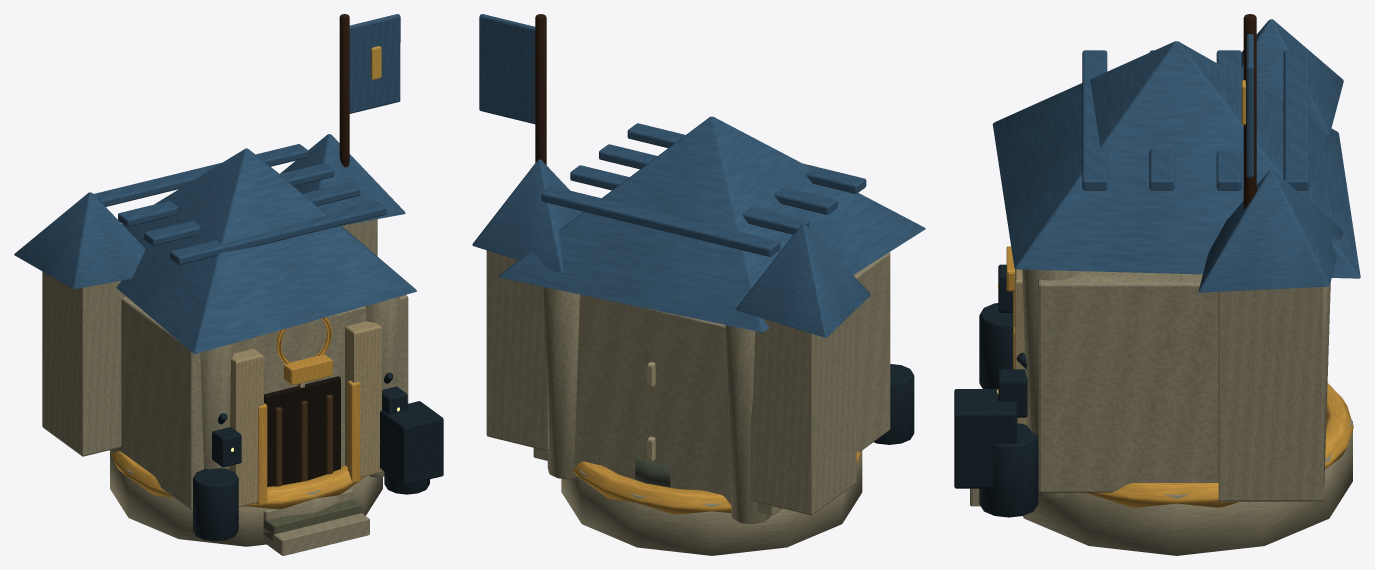
File: tower-barracks-2-base.glb
3 views of the same model, side by side, from view 1: azimuth 30°, elevation 25°; view 2: azimuth 150°, elevation 25°; view 3: azimuth 270°, elevation 25° (orthographic). The views are drawn at different scales.
Visible parts, largest first — view 1: Foundation, barracks-L2-base; view 2: Foundation, barracks-L2-base; view 3: Foundation, barracks-L2-base.
Part boxes in pixels (x1=…): Foundation: x1=14, y1=14, x2=443, y2=555; barracks-L2-base: x1=110, y1=451, x2=382, y2=546; Foundation: x1=472, y1=14, x2=925, y2=523; barracks-L2-base: x1=561, y1=450, x2=862, y2=555; Foundation: x1=954, y1=14, x2=1360, y2=517; barracks-L2-base: x1=1022, y1=417, x2=1352, y2=555.
Bounding box in the file's own units: 2.49 × 2.87 × 1.94.
Materials: 16 (16 with a texture image).
